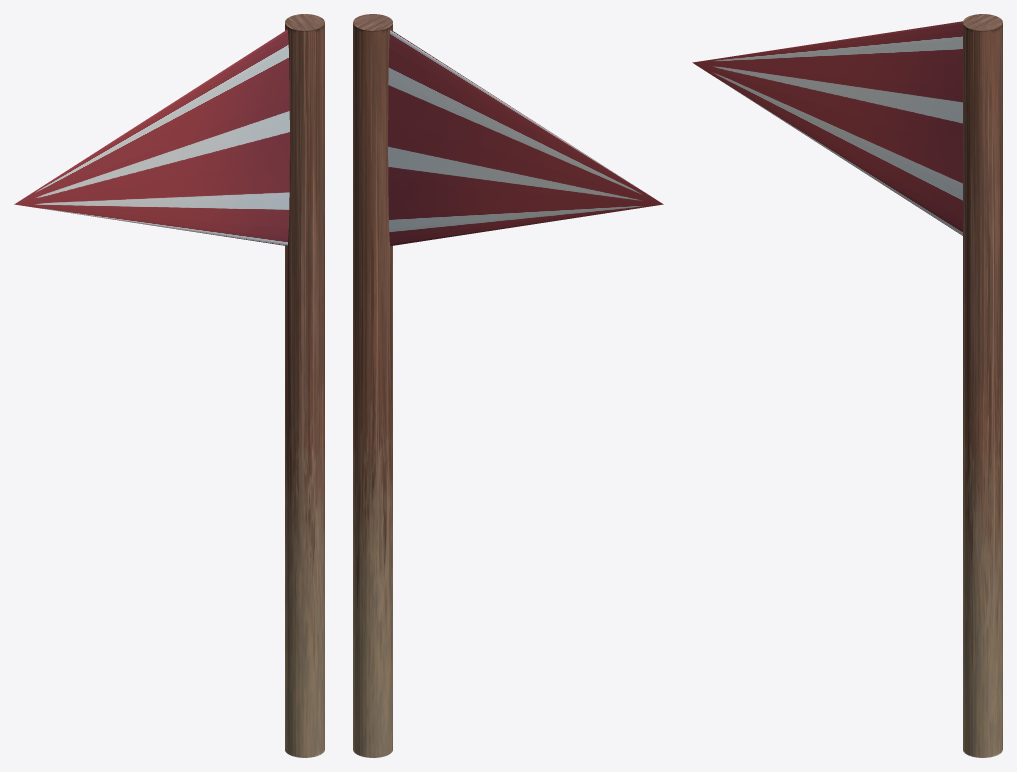
Rendered from GoalUp.obj.
3 views of the same model, side by side, from view 1: azimuth 30°, elevation 25°; view 2: azimuth 150°, elevation 25°; view 3: azimuth 330°, elevation 25° (orthographic).
Visible parts, largest first — view 1: 円柱; view 2: 円柱; view 3: 円柱.
Boxes of the visible parts, box(x1,y1,x2,y2) form: 円柱: box(14, 14, 324, 757); 円柱: box(353, 14, 663, 757); 円柱: box(692, 14, 1002, 757).
Bounding box in the file's own units: 0.8872 × 2 × 0.1.
Materials: 1 (1 with a texture image).
